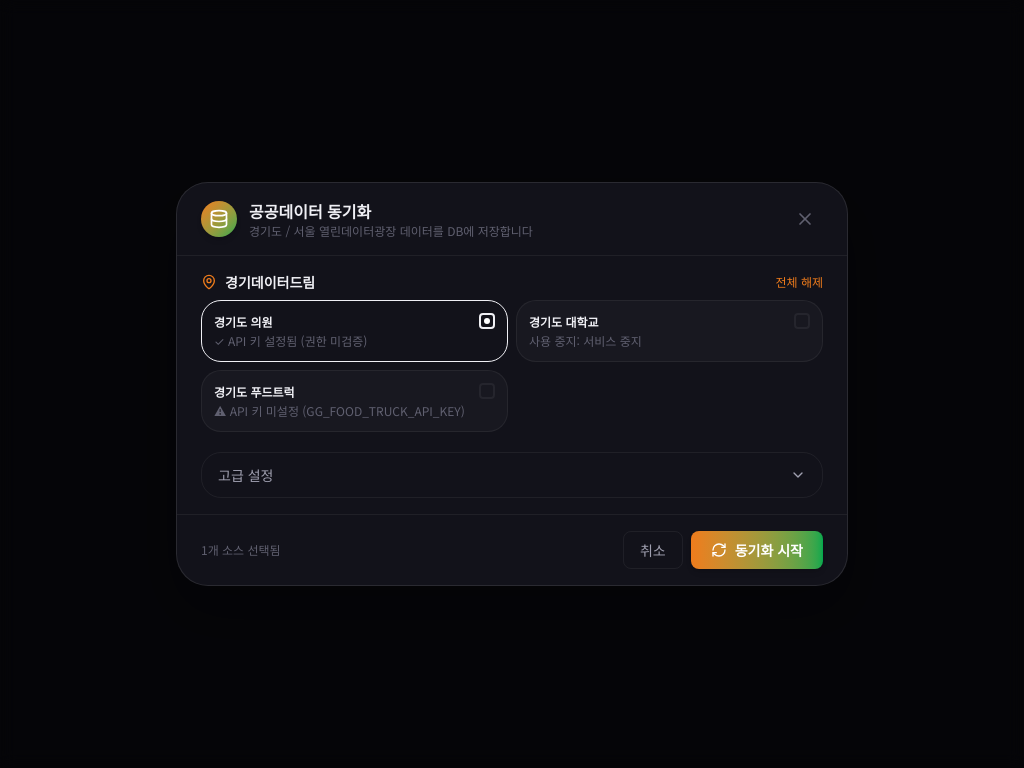
Test case: 동기화 화면 회귀 검증 › shows a provider failure and releases the running state
expect the text "1개 소스 선택됨" is shown: met, box x1=201 y1=542 x2=281 y2=558
Step 1. Click the button "동기화 시작" → point(757, 550), box x1=691 y1=531 x2=823 y2=569
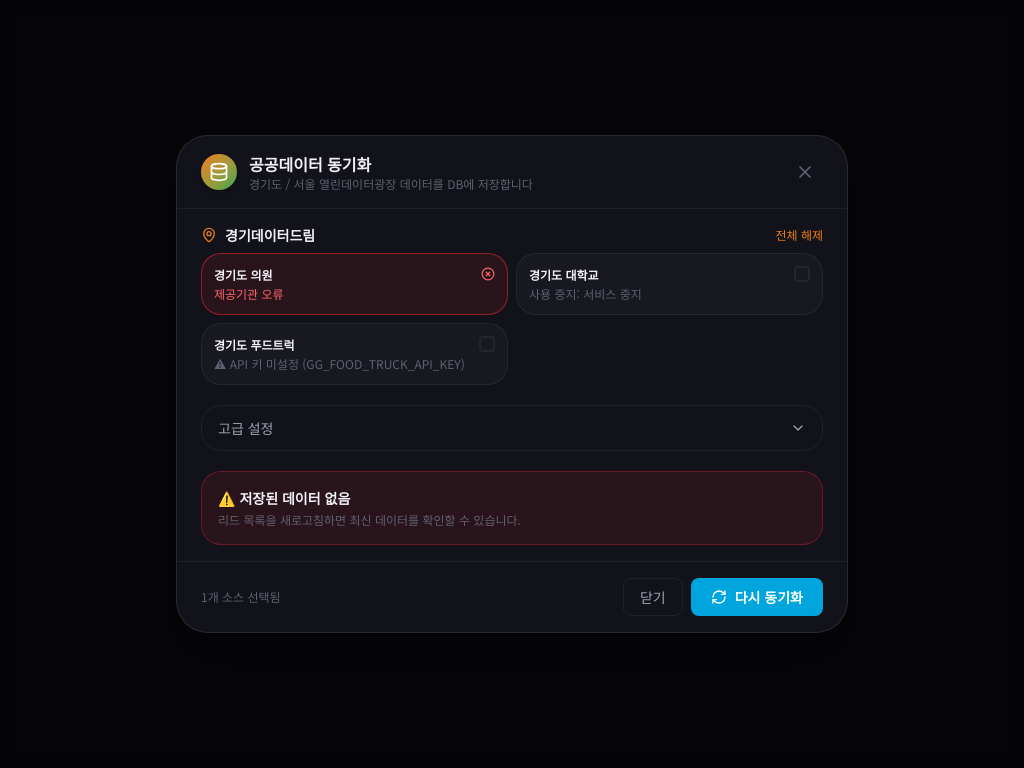
expect the text "제공기관 오류" is shown: met, box x1=214 y1=284 x2=284 y2=302
